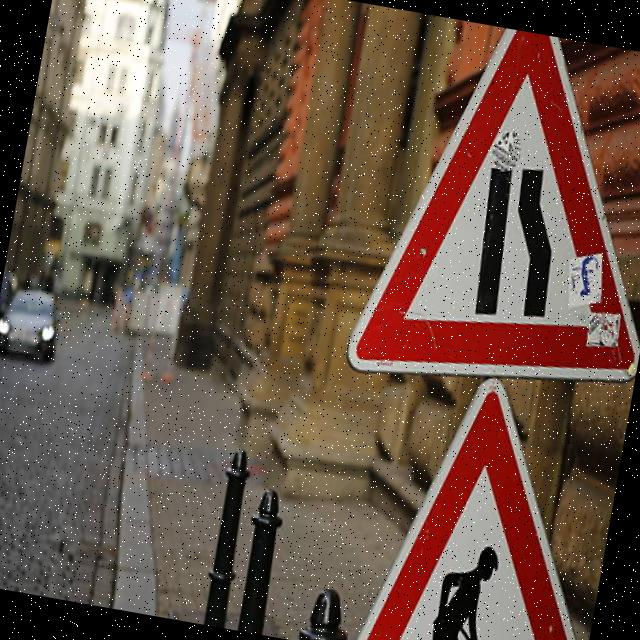road_work: (339, 373, 628, 640)
